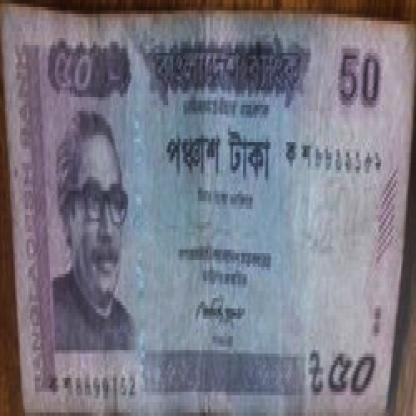Fifty taka: (298, 350, 389, 413), (44, 38, 106, 108)
